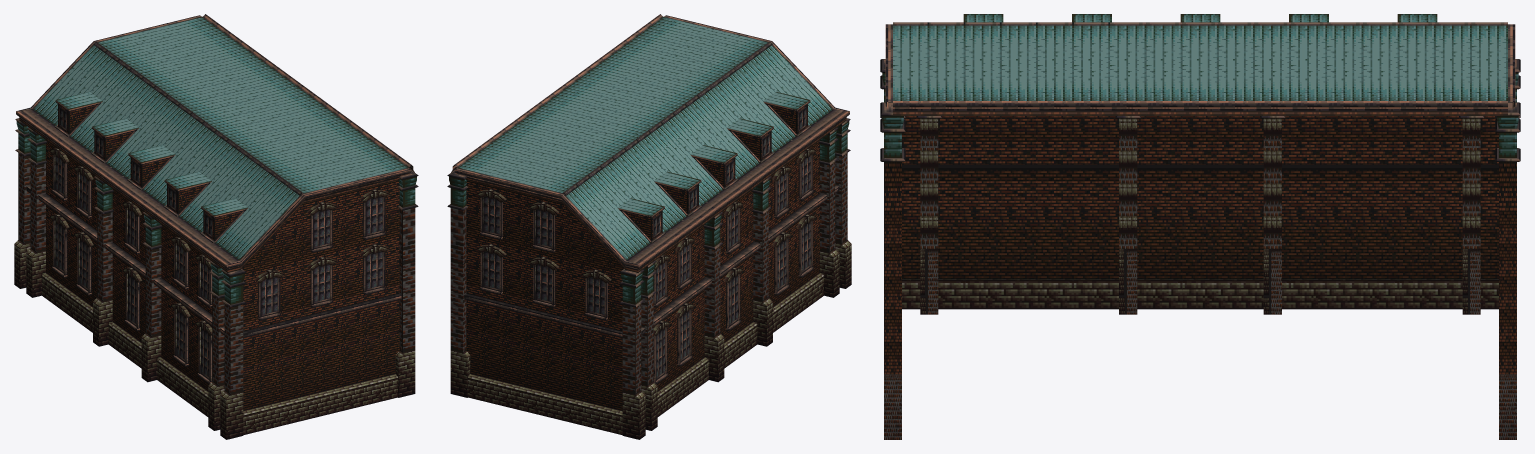
The model's file is EnvBdgMD_Factory_B_Outdoor.FBX.
The picture shows the model from 3 angles, left to right: view 1: azimuth 30°, elevation 25°; view 2: azimuth 150°, elevation 25°; view 3: azimuth 270°, elevation 25°; orthographic projection. The views are drawn at different scales.
Visible parts, largest first — view 1: EnvBdgMD_Factory_B_Outdoor; view 2: EnvBdgMD_Factory_B_Outdoor; view 3: EnvBdgMD_Factory_B_Outdoor.
Part boxes in pixels (bbox=[...]): EnvBdgMD_Factory_B_Outdoor: bbox=[14, 14, 418, 439]; EnvBdgMD_Factory_B_Outdoor: bbox=[447, 14, 851, 439]; EnvBdgMD_Factory_B_Outdoor: bbox=[880, 14, 1520, 439].
Size of the model in its own units: 913 by 1032 by 1770.
